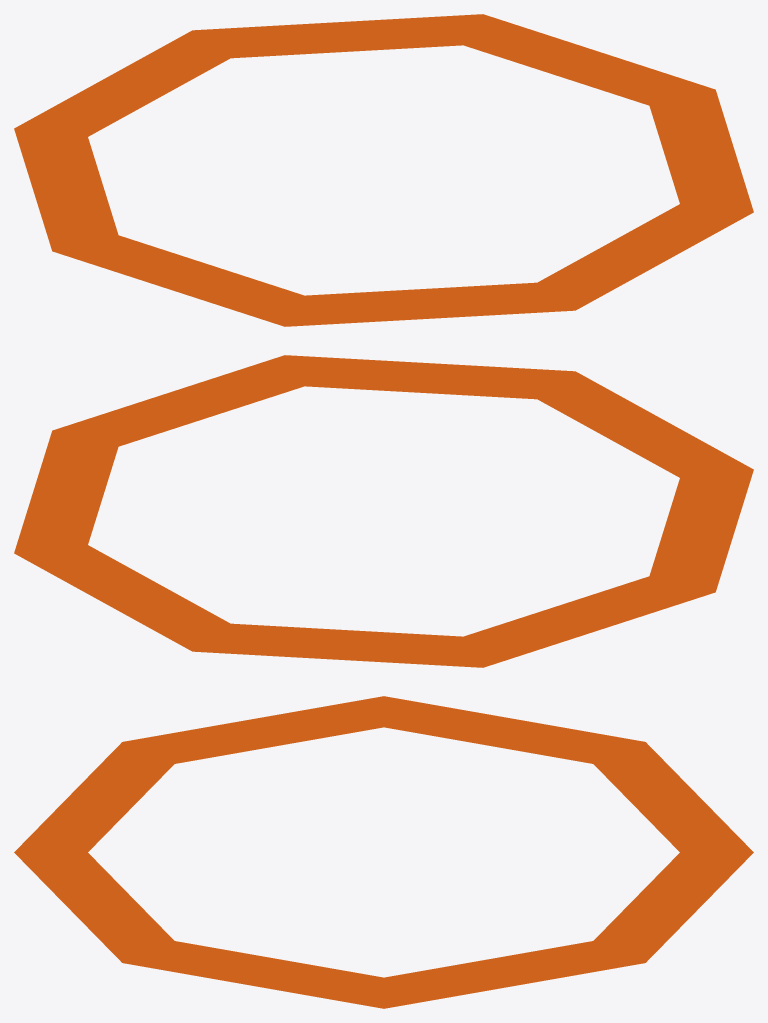
Rendered from OuterRoof.fbx.
3 views of the same model, one above another, from view 1: azimuth 30°, elevation 25°; view 2: azimuth 150°, elevation 25°; view 3: azimuth 270°, elevation 25° (orthographic). The views are drawn at different scales.
Parts seen in each view (by area): view 1: OuterRoof; view 2: OuterRoof; view 3: OuterRoof.
Part boxes in pixels (left/top/right/bottom): OuterRoof: left=14, top=14, right=753, bottom=326; OuterRoof: left=14, top=355, right=753, bottom=667; OuterRoof: left=14, top=696, right=753, bottom=1008.
Bounding box in the file's own units: 2000 × 0.000326 × 2000.
